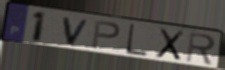1: (31, 10, 46, 45)
L: (124, 22, 149, 58)
P: (90, 19, 122, 51)
R: (184, 31, 217, 66)
V: (61, 16, 92, 47)
X: (153, 27, 186, 62)
